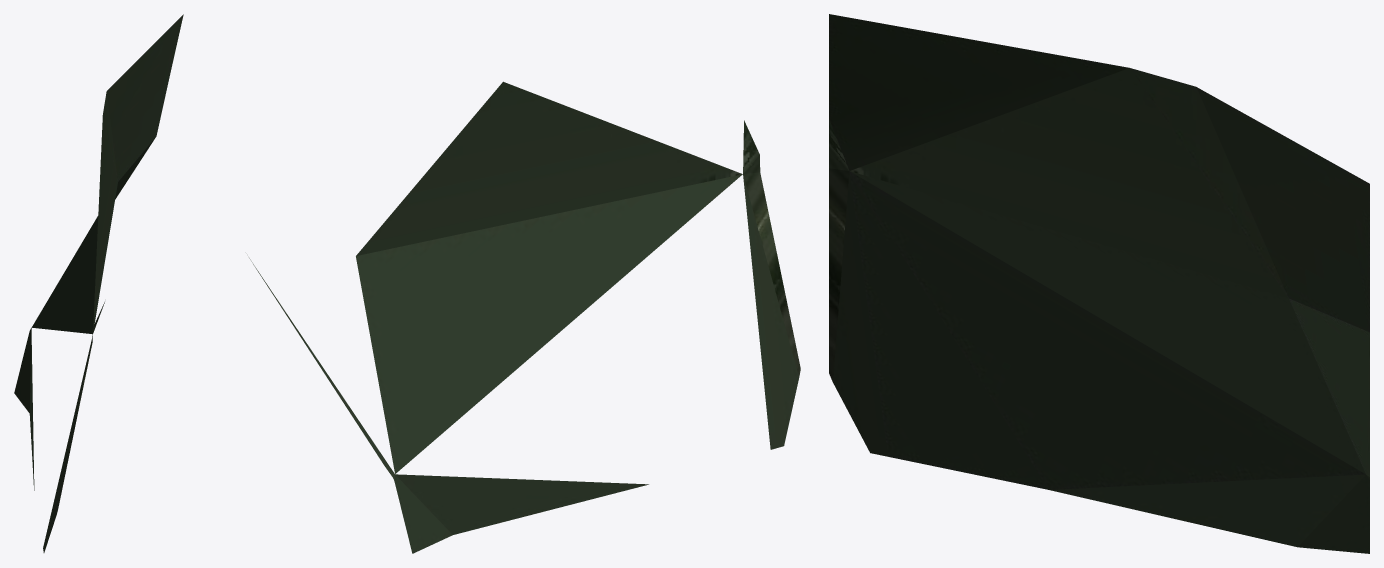
3 views of the same model, side by side, from view 1: azimuth 30°, elevation 25°; view 2: azimuth 150°, elevation 25°; view 3: azimuth 270°, elevation 25° (orthographic). The views are drawn at different scales.
Size of the model in its own units: 2.85 by 2.95 by 2.95.
Materials: 3 (3 with a texture image).
